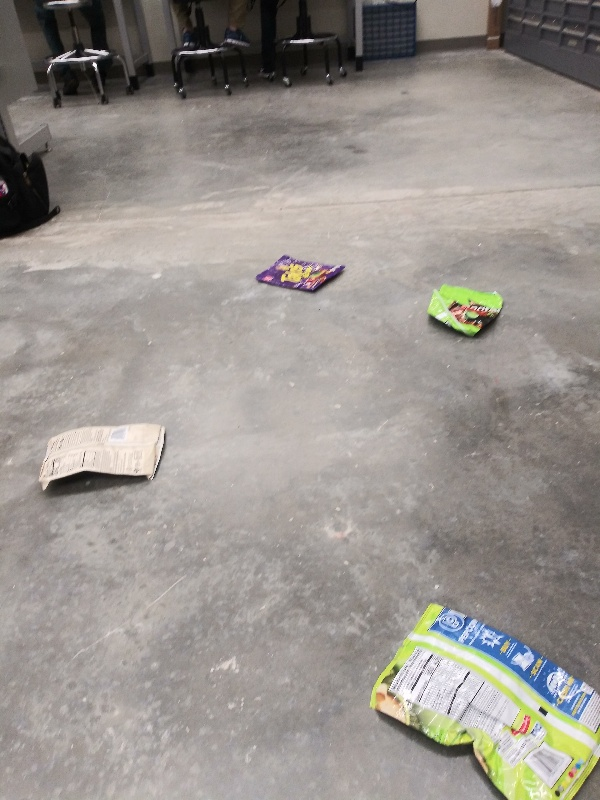bag: (364, 600, 600, 800), (34, 418, 171, 497), (426, 280, 507, 339), (252, 253, 348, 294)
